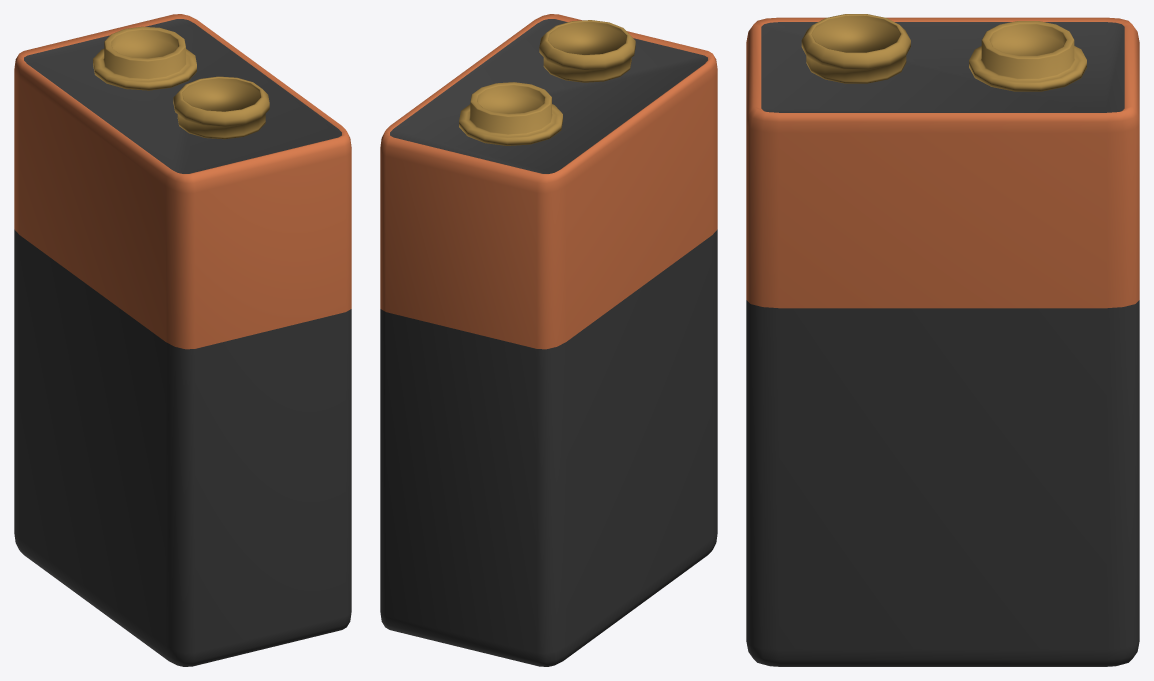
The model's file is battery.fbx.
The picture shows the model from 3 angles, left to right: view 1: azimuth 30°, elevation 25°; view 2: azimuth 150°, elevation 25°; view 3: azimuth 270°, elevation 25°; orthographic projection. The views are drawn at different scales.
Visible parts, largest first — view 1: Cube; view 2: Cube; view 3: Cube.
Part boxes in pixels (x1,y1,x2,y2): Cube: [14, 14, 351, 666]; Cube: [380, 14, 717, 666]; Cube: [746, 14, 1139, 666].
Size of the model in its own units: 62.81 by 174 by 105.
